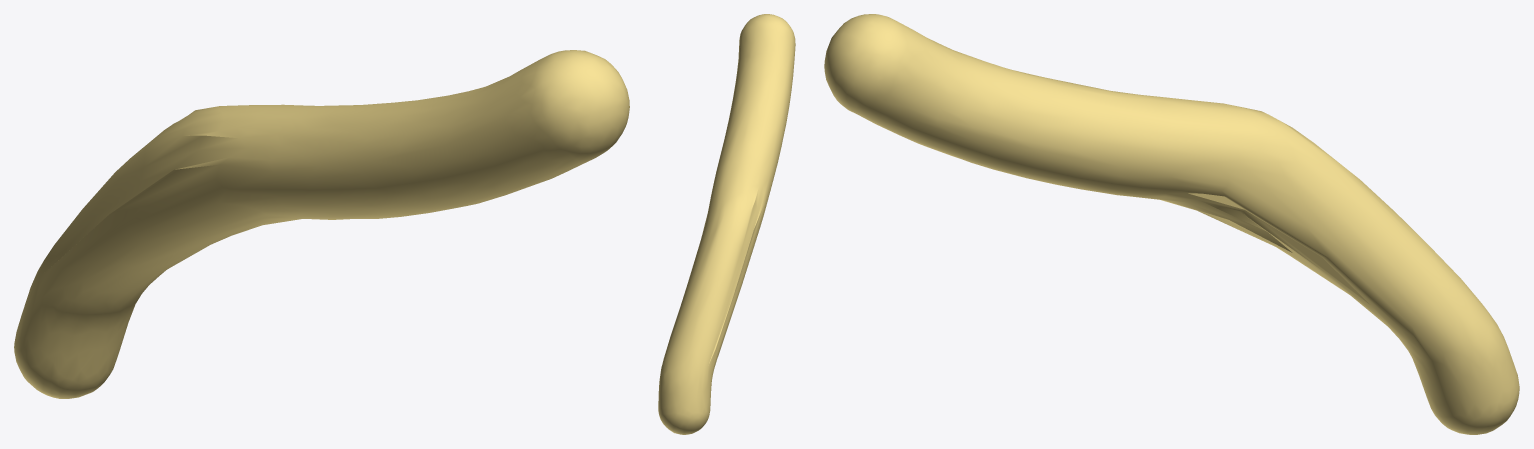
Rendered from fma268224-o_mm2577m.glb.
The picture shows the model from 3 angles, left to right: view 1: azimuth 30°, elevation 25°; view 2: azimuth 150°, elevation 25°; view 3: azimuth 270°, elevation 25°; orthographic projection. The views are drawn at different scales.
Parts seen in each view (by area): view 1: FMA268224-O_MM2577M; view 2: FMA268224-O_MM2577M; view 3: FMA268224-O_MM2577M.
Part boxes in pixels (x1,y1,x2,y2): FMA268224-O_MM2577M: (14,50,629,398); FMA268224-O_MM2577M: (658,14,795,434); FMA268224-O_MM2577M: (824,14,1519,434).
Bounding box in the file's own units: 0.0035 × 0.00688 × 0.00892.
